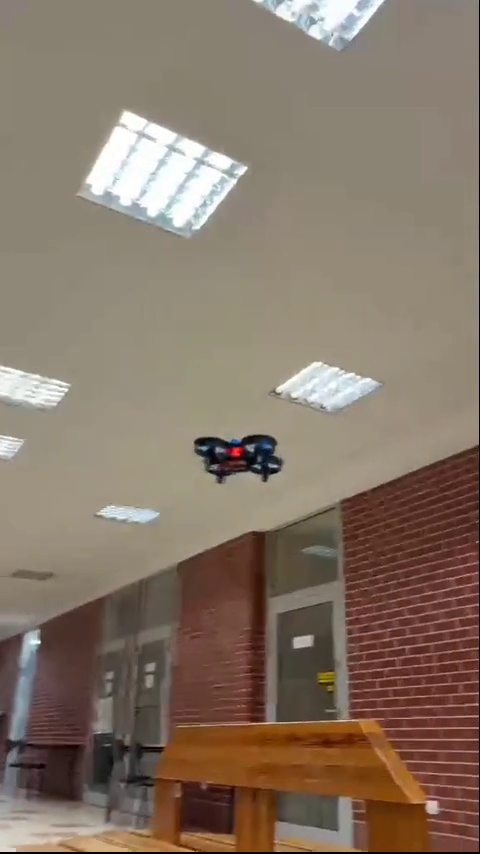drone: (195, 429, 286, 485)
